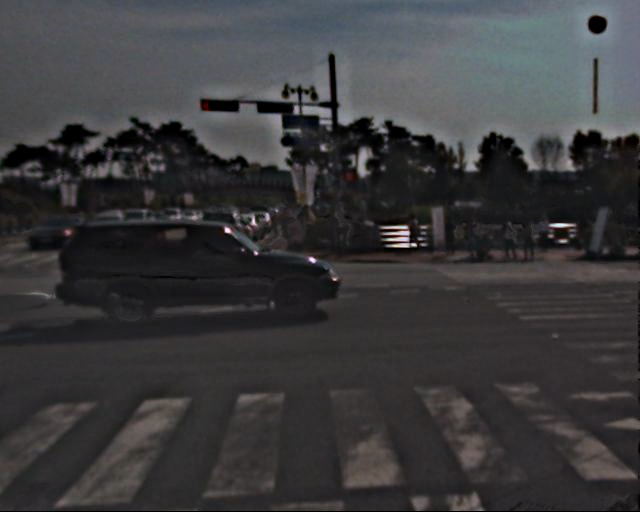person: (267, 207, 318, 248), (466, 214, 487, 265), (443, 218, 463, 266), (523, 220, 542, 266), (503, 221, 521, 266), (328, 215, 346, 259), (407, 212, 425, 256), (576, 210, 593, 252), (538, 211, 554, 251)
